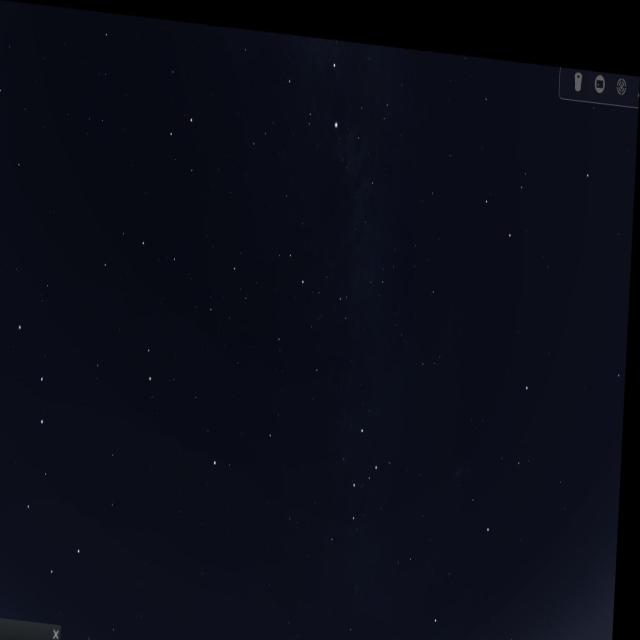cassiopeia: (315, 382, 405, 566)
ursa_major: (0, 300, 105, 589)
